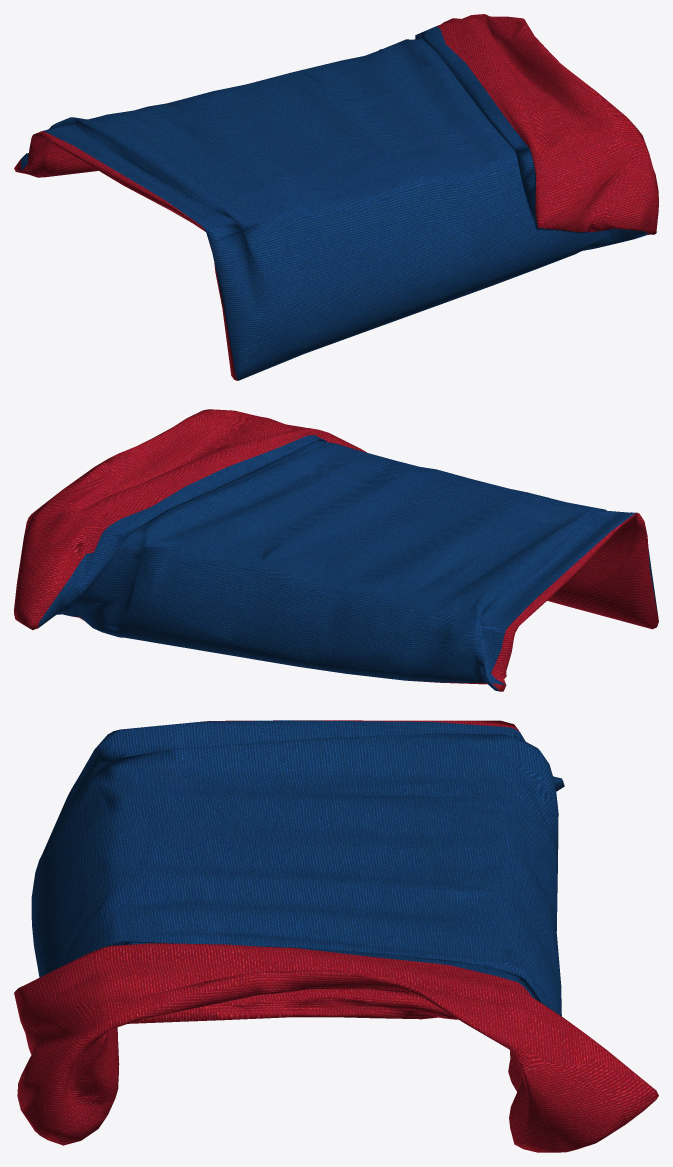
Rendered from Blanket.FBX.
3 views of the same model, one above another, from view 1: azimuth 30°, elevation 25°; view 2: azimuth 150°, elevation 25°; view 3: azimuth 270°, elevation 25° (orthographic). The views are drawn at different scales.
Visible parts, largest first — view 1: blanket; view 2: blanket; view 3: blanket.
Part boxes in pixels (x1,y1,x2,y2): blanket: (14,14,658,380); blanket: (14,409,658,691); blanket: (14,720,658,1152).
Size of the model in its own units: 163 by 51.48 by 136.
Materials: 2 (2 with a texture image).
